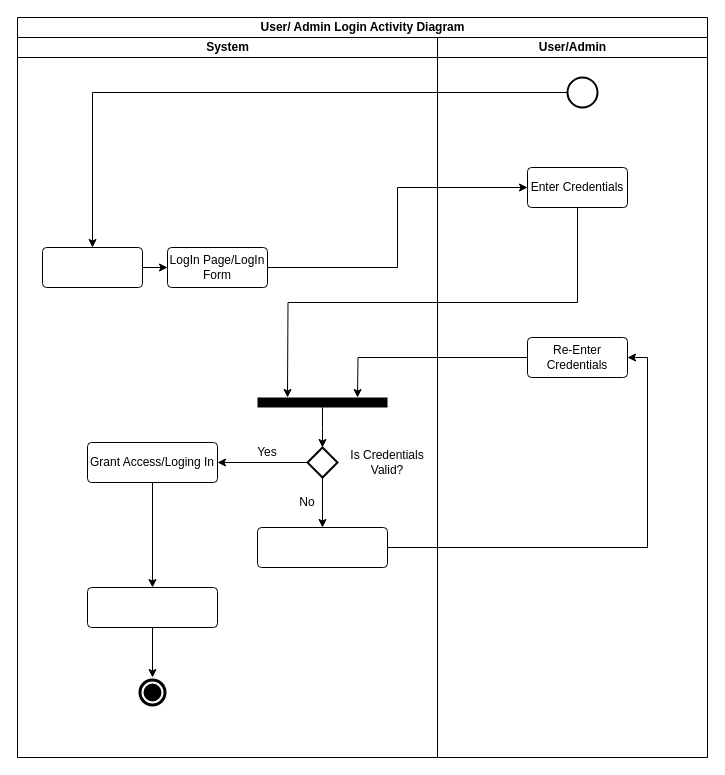
The diagram is 725 pixels wide and 775 high, and some of its shapes have lost their labels. The shapes that lost their labels are listed below. From the top down, each one's centre as x and y in pixels, then its label:
point 92,267: Landing Page
point 322,547: Error Message
point 152,607: Dashboard
